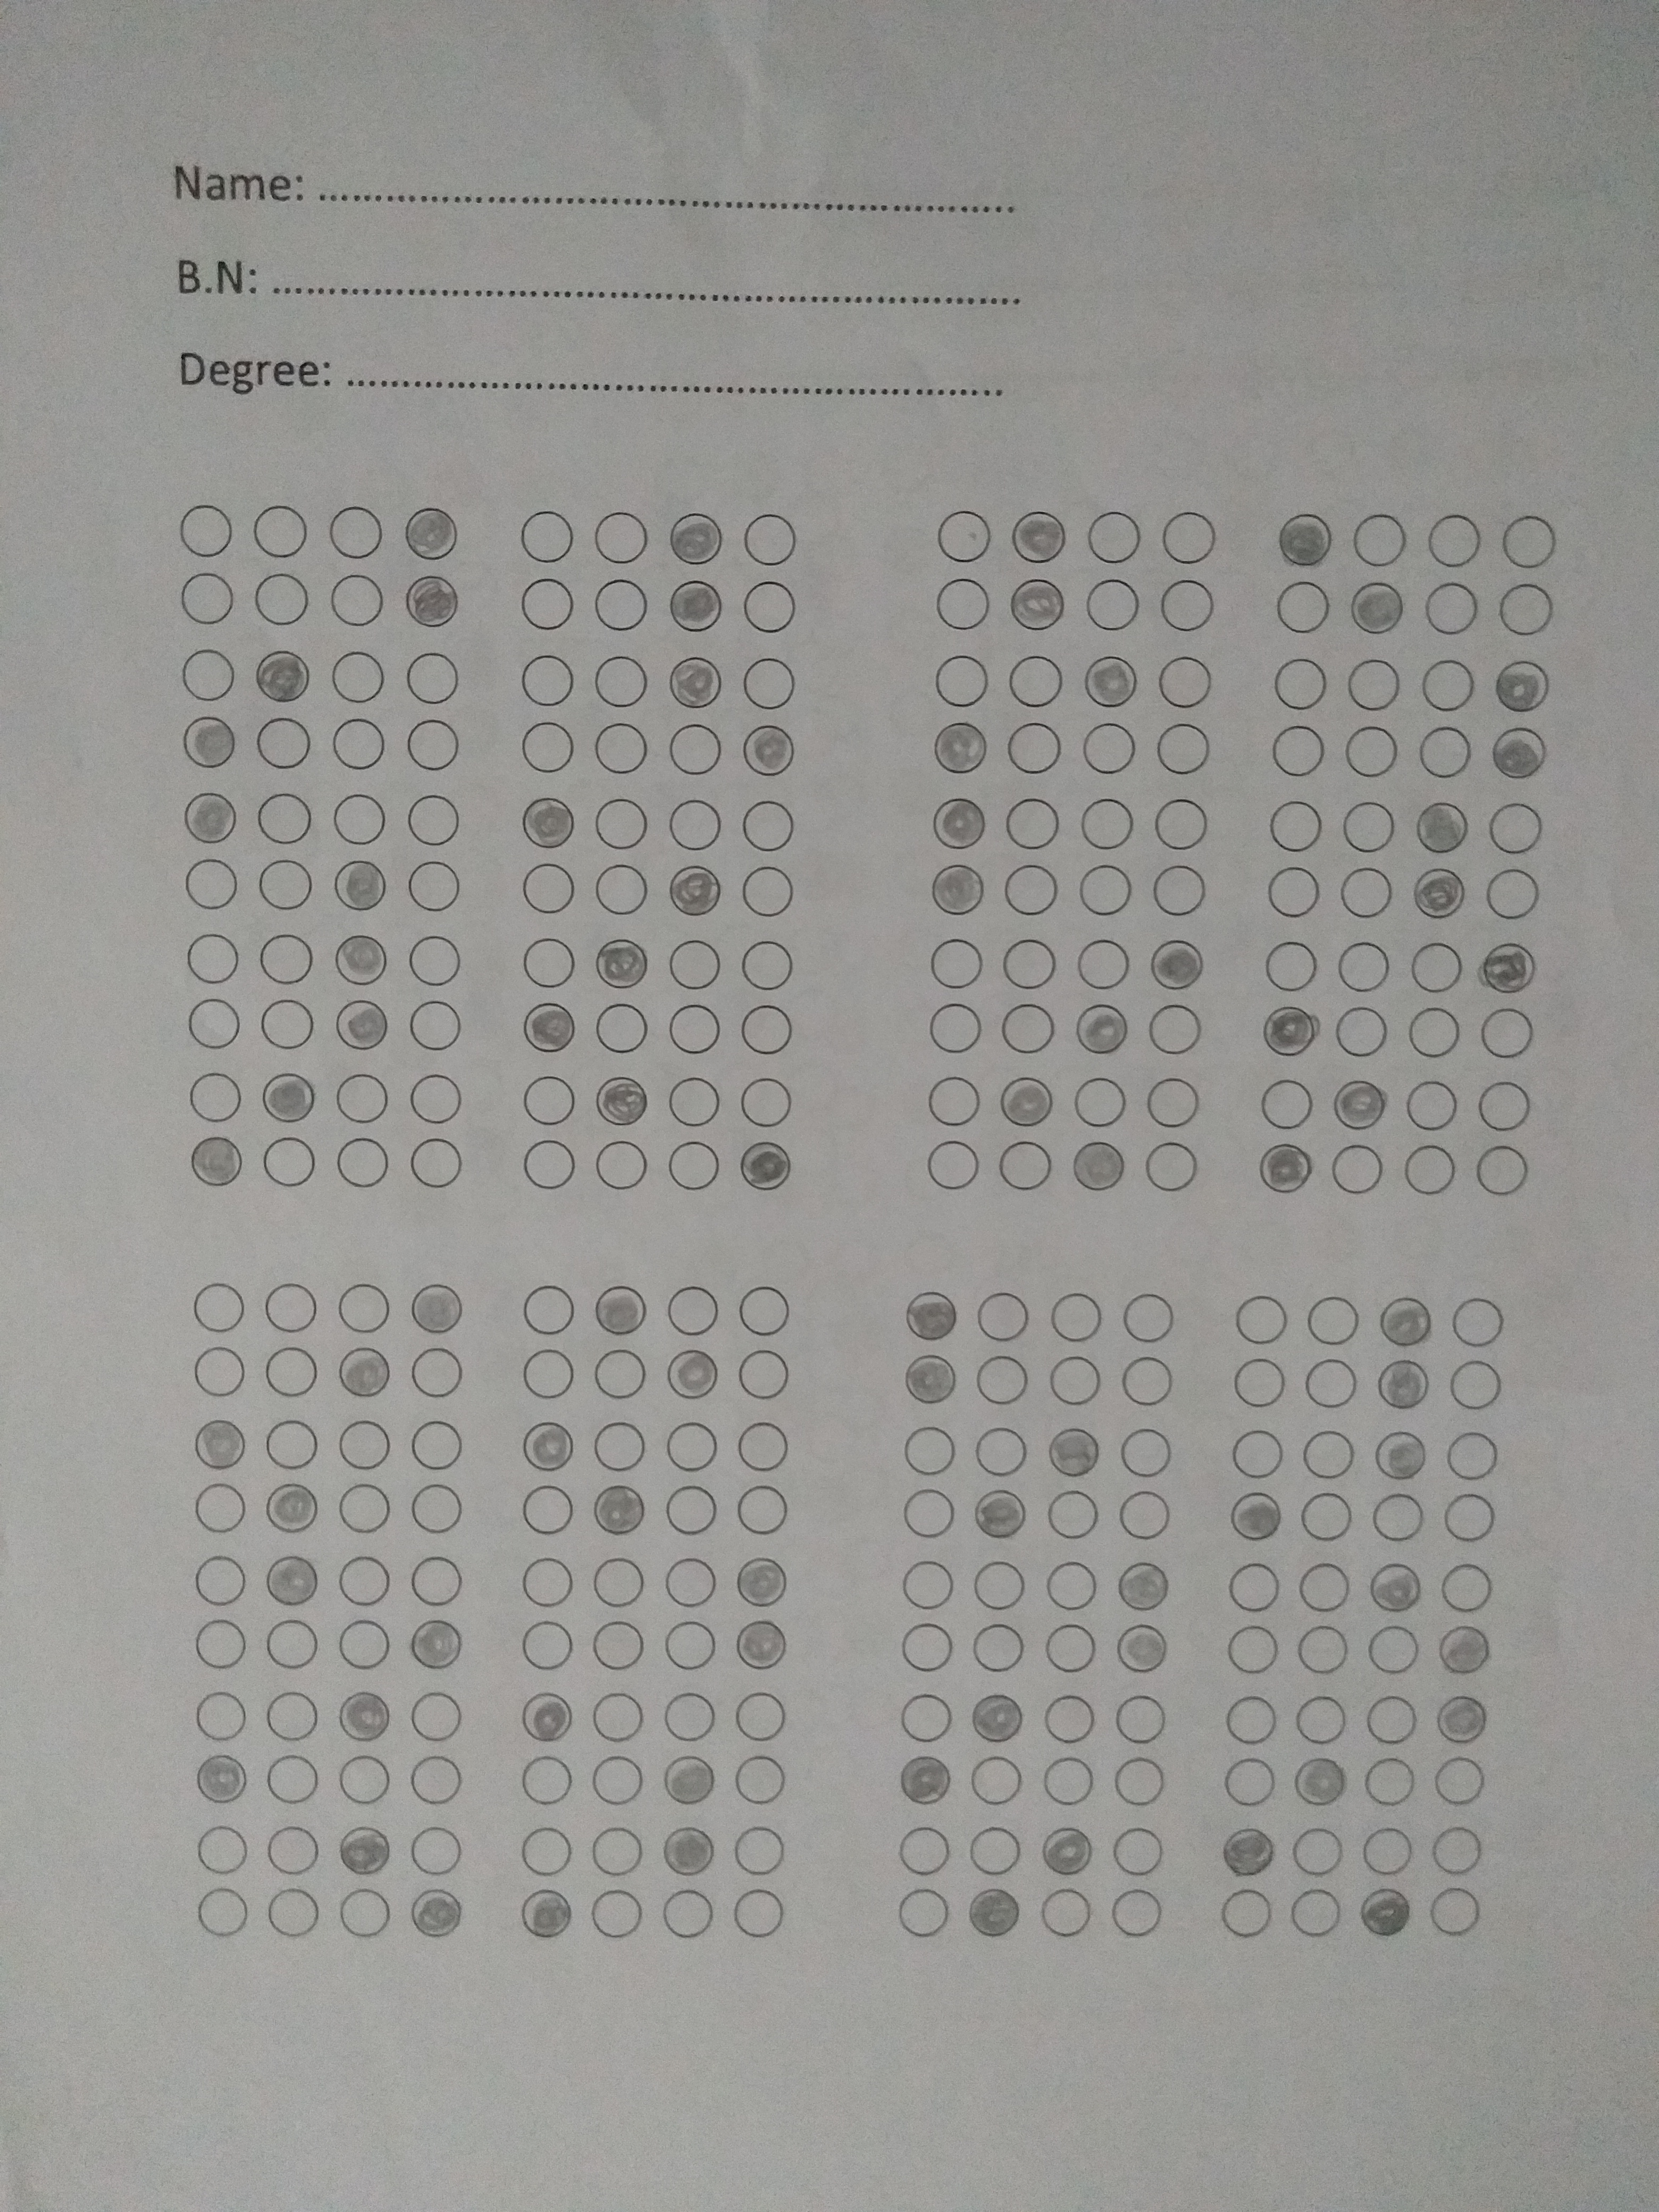not-c: (734, 792, 800, 859), (587, 791, 653, 857), (587, 714, 653, 780), (516, 646, 582, 712), (591, 650, 657, 716), (735, 571, 802, 637), (324, 644, 390, 711), (512, 503, 579, 570), (321, 500, 387, 566), (246, 498, 312, 564), (174, 498, 240, 564), (1077, 714, 1143, 780), (1080, 503, 1147, 570), (1405, 934, 1471, 1000), (1330, 935, 1396, 1001), (1260, 857, 1326, 923), (1335, 794, 1401, 860), (1480, 794, 1546, 860), (1412, 719, 1478, 786), (1338, 718, 1405, 784), (1269, 651, 1335, 718), (995, 859, 1061, 925), (932, 503, 999, 568), (179, 850, 246, 914), (251, 853, 317, 918), (662, 792, 728, 857), (518, 712, 584, 777), (739, 650, 803, 716), (737, 505, 802, 571), (589, 570, 653, 636), (514, 571, 580, 636), (401, 787, 465, 853), (326, 787, 392, 852), (251, 787, 317, 852), (326, 712, 392, 777), (399, 712, 465, 777), (174, 641, 240, 705), (322, 568, 389, 632), (587, 505, 652, 571), (932, 648, 997, 714), (1002, 714, 1066, 780), (1152, 573, 1216, 639), (1082, 571, 1147, 637), (1155, 505, 1222, 570), (1331, 862, 1398, 927), (1267, 718, 1331, 784), (1417, 655, 1481, 721), (1493, 578, 1560, 643), (1419, 575, 1485, 639), (1422, 507, 1488, 571), (1349, 507, 1413, 573), (254, 925, 319, 991), (178, 927, 242, 993), (1145, 860, 1209, 927), (1072, 860, 1138, 925), (1148, 792, 1215, 857), (1000, 791, 1065, 857), (399, 855, 464, 920), (662, 716, 727, 780), (249, 711, 314, 775), (397, 648, 462, 712), (178, 566, 242, 631), (249, 566, 314, 631), (1004, 648, 1068, 712), (1152, 716, 1216, 780), (1152, 648, 1216, 712), (1256, 932, 1321, 996), (1263, 794, 1328, 859), (1480, 862, 1544, 927), (1340, 651, 1405, 716), (1270, 575, 1335, 639), (1497, 509, 1561, 573), (931, 573, 995, 637), (737, 860, 802, 925), (1075, 791, 1140, 855), (734, 1071, 798, 1134), (664, 1071, 728, 1134), (734, 996, 798, 1059), (662, 995, 727, 1057), (737, 932, 802, 995), (662, 932, 727, 995), (518, 857, 582, 920), (403, 1068, 467, 1130), (254, 993, 319, 1055), (183, 995, 247, 1057), (1070, 1071, 1134, 1134), (922, 995, 986, 1057), (997, 932, 1061, 995), (924, 932, 988, 995), (1469, 1137, 1534, 1200), (1326, 1139, 1391, 1202), (1398, 1073, 1462, 1136), (1399, 1001, 1464, 1064), (922, 1069, 986, 1132), (993, 1136, 1058, 1198), (732, 1280, 796, 1343), (1044, 1285, 1108, 1348), (1138, 1134, 1202, 1197), (1140, 1073, 1204, 1136), (732, 1345, 796, 1407), (589, 1341, 653, 1404), (518, 1277, 582, 1339), (1230, 1289, 1295, 1352), (190, 1477, 254, 1540), (404, 1411, 469, 1474), (335, 1413, 399, 1475), (260, 1413, 324, 1475), (403, 1341, 467, 1404), (258, 1339, 322, 1402), (190, 1338, 254, 1400), (1358, 1750, 1422, 1813), (1290, 1620, 1354, 1683), (1438, 1487, 1502, 1550), (1366, 1487, 1431, 1550), (1298, 1423, 1363, 1486), (969, 1420, 1033, 1482), (1117, 1352, 1182, 1414), (1445, 1355, 1509, 1418), (1229, 1350, 1293, 1413), (659, 1686, 723, 1749), (586, 1613, 650, 1676), (518, 1615, 582, 1677), (586, 1552, 650, 1615), (516, 1550, 580, 1613), (335, 1881, 399, 1944), (192, 1881, 256, 1944), (192, 1818, 256, 1881), (404, 1818, 469, 1881), (331, 1745, 396, 1808), (260, 1750, 324, 1813), (188, 1684, 253, 1747), (261, 1683, 326, 1745), (404, 1686, 469, 1749), (190, 1613, 254, 1676), (260, 1611, 324, 1674), (660, 1480, 725, 1543), (518, 1475, 582, 1538), (333, 1550, 397, 1613), (589, 1413, 653, 1475), (1424, 1881, 1488, 1944), (1425, 1820, 1490, 1883), (1215, 1881, 1279, 1944), (892, 1688, 957, 1750), (1110, 1688, 1175, 1750), (1108, 1752, 1173, 1815), (964, 1750, 1028, 1813), (1105, 1820, 1169, 1883), (728, 1883, 793, 1946), (587, 1820, 652, 1883), (514, 1818, 579, 1881), (516, 1749, 580, 1811), (591, 1134, 653, 1197), (519, 1069, 582, 1132), (589, 996, 652, 1059), (589, 857, 652, 920), (406, 1132, 469, 1195), (404, 995, 467, 1057), (333, 1132, 396, 1195), (1072, 932, 1134, 995), (1396, 1137, 1459, 1200), (1253, 1073, 1316, 1136), (1330, 1001, 1392, 1064), (662, 1134, 725, 1197), (899, 1616, 962, 1679), (1119, 1285, 1182, 1348), (974, 1287, 1037, 1350), (406, 1477, 469, 1540), (1354, 1820, 1417, 1883), (1429, 1754, 1492, 1817), (1291, 1689, 1354, 1752), (1364, 1622, 1427, 1684), (1293, 1555, 1356, 1618), (1225, 1557, 1288, 1620), (1227, 1421, 1290, 1484), (1042, 1482, 1105, 1545), (1115, 1486, 1178, 1548), (1446, 1292, 1509, 1355), (728, 1686, 791, 1749), (662, 1552, 725, 1615), (261, 1817, 324, 1879), (732, 1480, 795, 1543), (1286, 1883, 1349, 1946), (971, 1554, 1033, 1616), (1039, 1555, 1101, 1618), (1040, 1686, 1103, 1749), (1035, 1881, 1098, 1944), (964, 1818, 1026, 1881), (892, 1818, 955, 1881), (892, 1881, 955, 1944), (657, 1881, 720, 1944), (727, 1820, 789, 1883), (586, 1883, 648, 1946), (587, 1747, 650, 1810), (730, 1749, 793, 1811), (920, 1134, 985, 1195), (518, 930, 582, 991), (329, 1068, 394, 1129), (183, 1064, 247, 1125), (403, 930, 467, 991), (995, 1000, 1060, 1061), (1471, 1076, 1535, 1137), (1473, 1003, 1537, 1064), (1044, 1348, 1108, 1409), (518, 1343, 582, 1404), (971, 1348, 1035, 1409), (333, 1479, 397, 1540), (188, 1277, 253, 1338), (333, 1277, 397, 1338), (1284, 1824, 1349, 1885), (1218, 1752, 1283, 1813), (1359, 1689, 1424, 1750), (1218, 1689, 1283, 1750), (1223, 1620, 1288, 1681), (1434, 1557, 1499, 1618), (1295, 1487, 1359, 1548), (1441, 1423, 1506, 1484), (901, 1420, 965, 1480), (1114, 1423, 1178, 1484), (1302, 1353, 1366, 1414), (1302, 1291, 1366, 1352), (660, 1616, 725, 1677), (406, 1550, 471, 1611), (660, 1416, 725, 1477), (896, 1550, 960, 1611), (967, 1620, 1032, 1681), (1103, 1881, 1168, 1942), (519, 1134, 582, 1195), (258, 1132, 321, 1193), (1141, 998, 1204, 1059), (662, 1280, 725, 1341), (260, 1277, 322, 1338), (901, 1482, 964, 1543), (587, 1688, 650, 1749), (261, 1881, 324, 1942), (406, 1750, 469, 1811), (333, 1613, 396, 1674), (190, 1550, 253, 1611), (732, 1414, 795, 1475), (1040, 1616, 1103, 1677), (1037, 1750, 1100, 1811)
taken-c: (1328, 1073, 1389, 1134), (1272, 510, 1333, 571), (737, 718, 798, 779), (185, 1134, 246, 1195), (329, 928, 390, 989), (514, 789, 575, 850), (997, 1073, 1058, 1134), (519, 998, 580, 1057), (1255, 1139, 1316, 1198), (1410, 864, 1471, 923), (1413, 798, 1474, 857), (1480, 937, 1540, 996), (1488, 723, 1549, 782), (1492, 653, 1553, 712), (1349, 577, 1410, 636), (1006, 575, 1066, 634), (1007, 509, 1068, 568), (662, 862, 723, 921), (662, 653, 723, 712), (664, 577, 725, 636), (666, 512, 727, 571), (256, 1066, 317, 1125), (331, 993, 392, 1052), (329, 853, 390, 913), (179, 711, 239, 772), (253, 644, 312, 705), (399, 568, 458, 629), (1373, 1357, 1434, 1416), (1377, 1292, 1436, 1353), (591, 1069, 652, 1129), (592, 934, 653, 993), (1066, 1137, 1127, 1197), (1070, 1000, 1131, 1059), (1145, 937, 1206, 996), (927, 859, 988, 918), (927, 796, 988, 855), (929, 719, 990, 779), (1082, 653, 1143, 712), (1258, 1001, 1317, 1061), (179, 786, 239, 845), (399, 503, 458, 563), (1358, 1885, 1417, 1942), (1225, 1487, 1284, 1545), (1371, 1425, 1431, 1482), (894, 1747, 953, 1804), (1044, 1423, 1103, 1480), (901, 1352, 960, 1409), (903, 1289, 962, 1346), (660, 1750, 720, 1808), (333, 1343, 392, 1400), (406, 1613, 465, 1670), (335, 1684, 394, 1742), (333, 1822, 392, 1879), (1216, 1822, 1276, 1879), (1290, 1754, 1349, 1811), (1436, 1622, 1495, 1679), (735, 1139, 796, 1195), (1364, 1557, 1422, 1615), (965, 1881, 1023, 1939), (1039, 1818, 1096, 1876), (967, 1688, 1025, 1745), (1114, 1618, 1171, 1676), (1115, 1555, 1173, 1613), (971, 1484, 1028, 1541), (592, 1282, 650, 1339), (662, 1345, 720, 1402), (516, 1418, 573, 1475), (587, 1479, 645, 1536), (734, 1618, 791, 1676), (660, 1820, 718, 1878), (518, 1881, 575, 1939), (190, 1413, 247, 1470), (265, 1479, 322, 1536), (261, 1552, 319, 1609), (192, 1750, 249, 1808), (408, 1881, 465, 1939), (1432, 1688, 1490, 1745), (404, 1280, 464, 1336), (514, 1691, 573, 1747), (734, 1552, 791, 1608)
